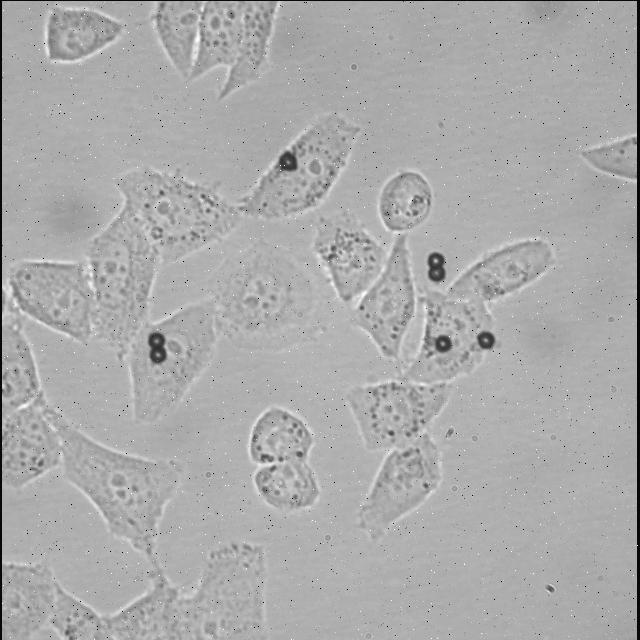microbeads: (422, 248, 453, 270), (280, 144, 302, 174), (477, 326, 498, 352), (428, 262, 450, 286), (148, 346, 172, 366), (146, 332, 168, 350), (437, 334, 453, 352)
